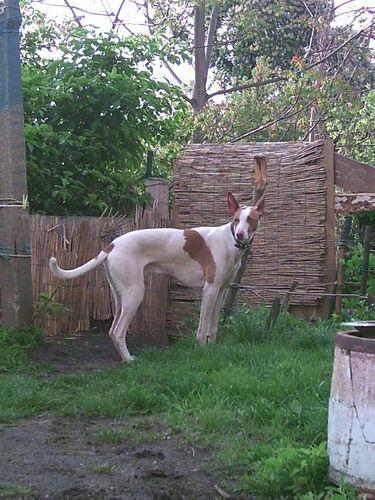Ibizan_hound: (46, 190, 266, 365)
